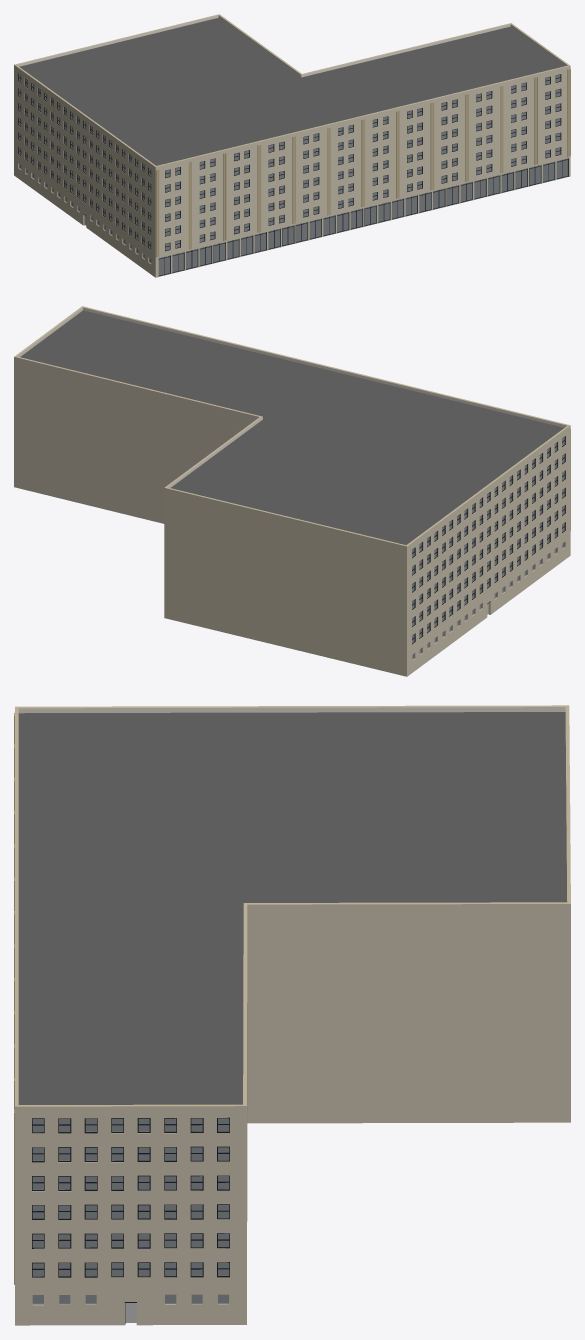
File: exterior.glb
3 renders of one model, top to bottom at view 1: azimuth 30°, elevation 25°; view 2: azimuth 150°, elevation 25°; view 3: azimuth 270°, elevation 25°, orthographic. The views are drawn at different scales.
Parts seen in each view (by area): view 1: shell, roof, glazing, shadow-proxy, frames, hand-ornament, storefront; view 2: shell, roof, glazing, frames, shadow-proxy; view 3: roof, shell, glazing, shadow-proxy, frames.
Part boxes in pixels (x1,y1,x2,y2): shell: [14, 14, 570, 277]; roof: [19, 17, 564, 165]; glazing: [19, 74, 568, 275]; shadow-proxy: [20, 75, 567, 275]; frames: [18, 74, 561, 251]; hand-ornament: [155, 69, 570, 257]; storefront: [83, 158, 568, 276]; shell: [14, 306, 570, 676]; roof: [20, 310, 564, 544]; glazing: [412, 437, 564, 659]; frames: [412, 436, 565, 644]; shadow-proxy: [412, 438, 563, 658]; roof: [18, 712, 566, 1104]; shell: [15, 705, 570, 1325]; glazing: [32, 1118, 229, 1304]; shadow-proxy: [33, 1118, 228, 1322]; frames: [32, 1117, 229, 1277].
Bounding box in the file's own units: 84.98 × 21.6 × 49.84.
